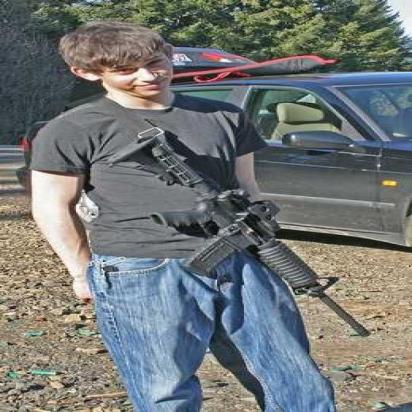Gun: (119, 136, 360, 323)
